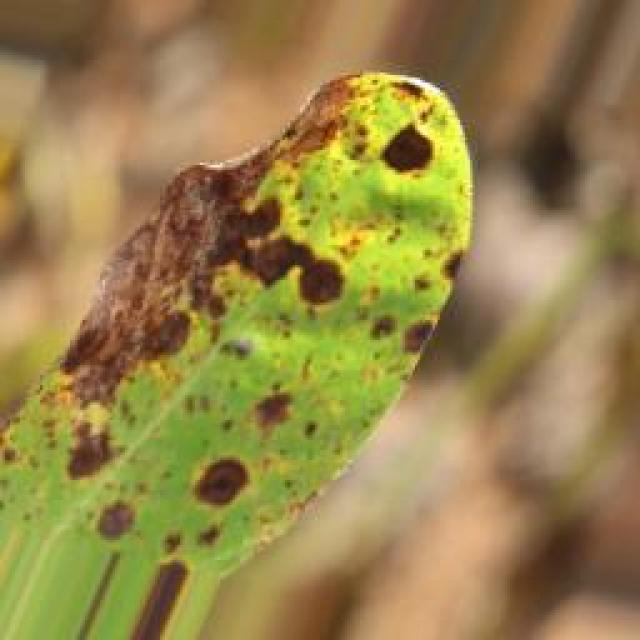Yellowish: (12, 66, 486, 588)
